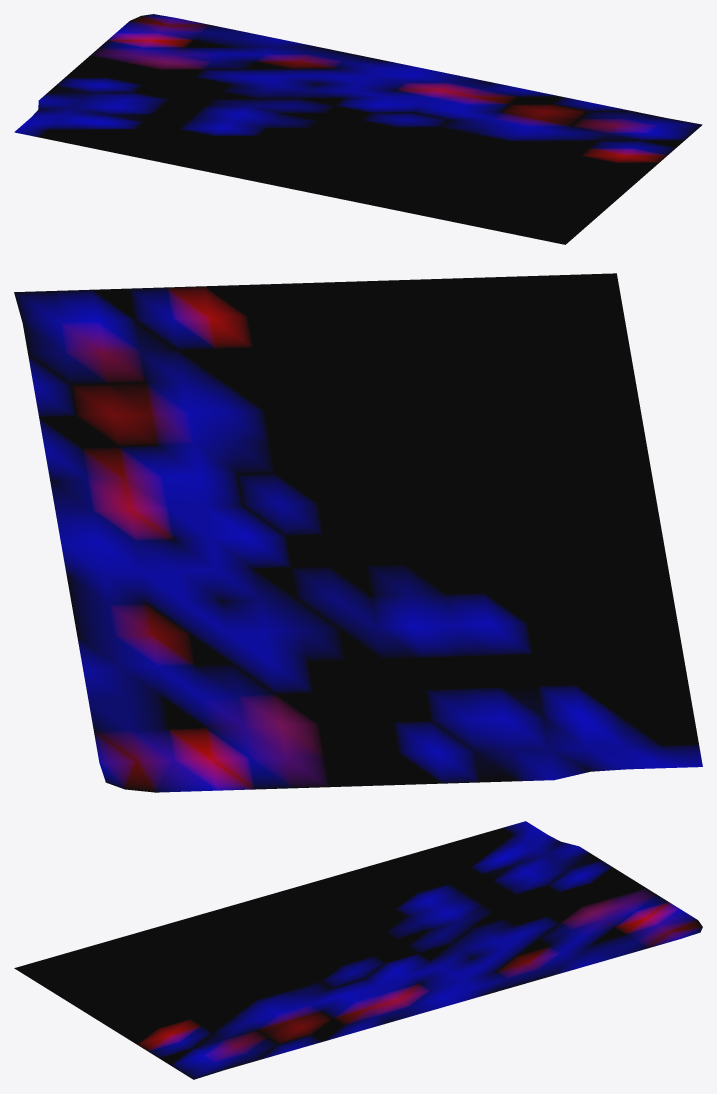
The picture shows the model from 3 angles, top to bottom: view 1: azimuth 30°, elevation 25°; view 2: azimuth 150°, elevation 25°; view 3: azimuth 270°, elevation 25°; orthographic projection. The views are drawn at different scales.
Parts seen in each view (by area): view 1: Sprite__2_; view 2: Sprite__2_; view 3: Sprite__2_.
Boxes of the visible parts, box(x1,y1,x2,y2) form: Sprite__2_: box(14, 14, 702, 244); Sprite__2_: box(14, 273, 702, 792); Sprite__2_: box(14, 821, 702, 1079).
Bounding box in the file's own units: 3944 × 4.53e-08 × 4438.
